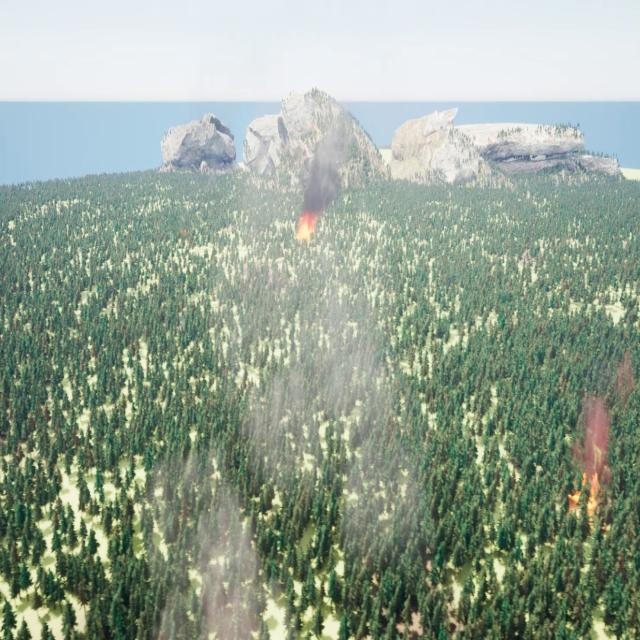fire: (565, 478, 605, 525), (296, 213, 319, 240)
smoke: (210, 175, 422, 546), (143, 451, 260, 639), (298, 109, 359, 214), (573, 394, 610, 477), (617, 350, 632, 411)
